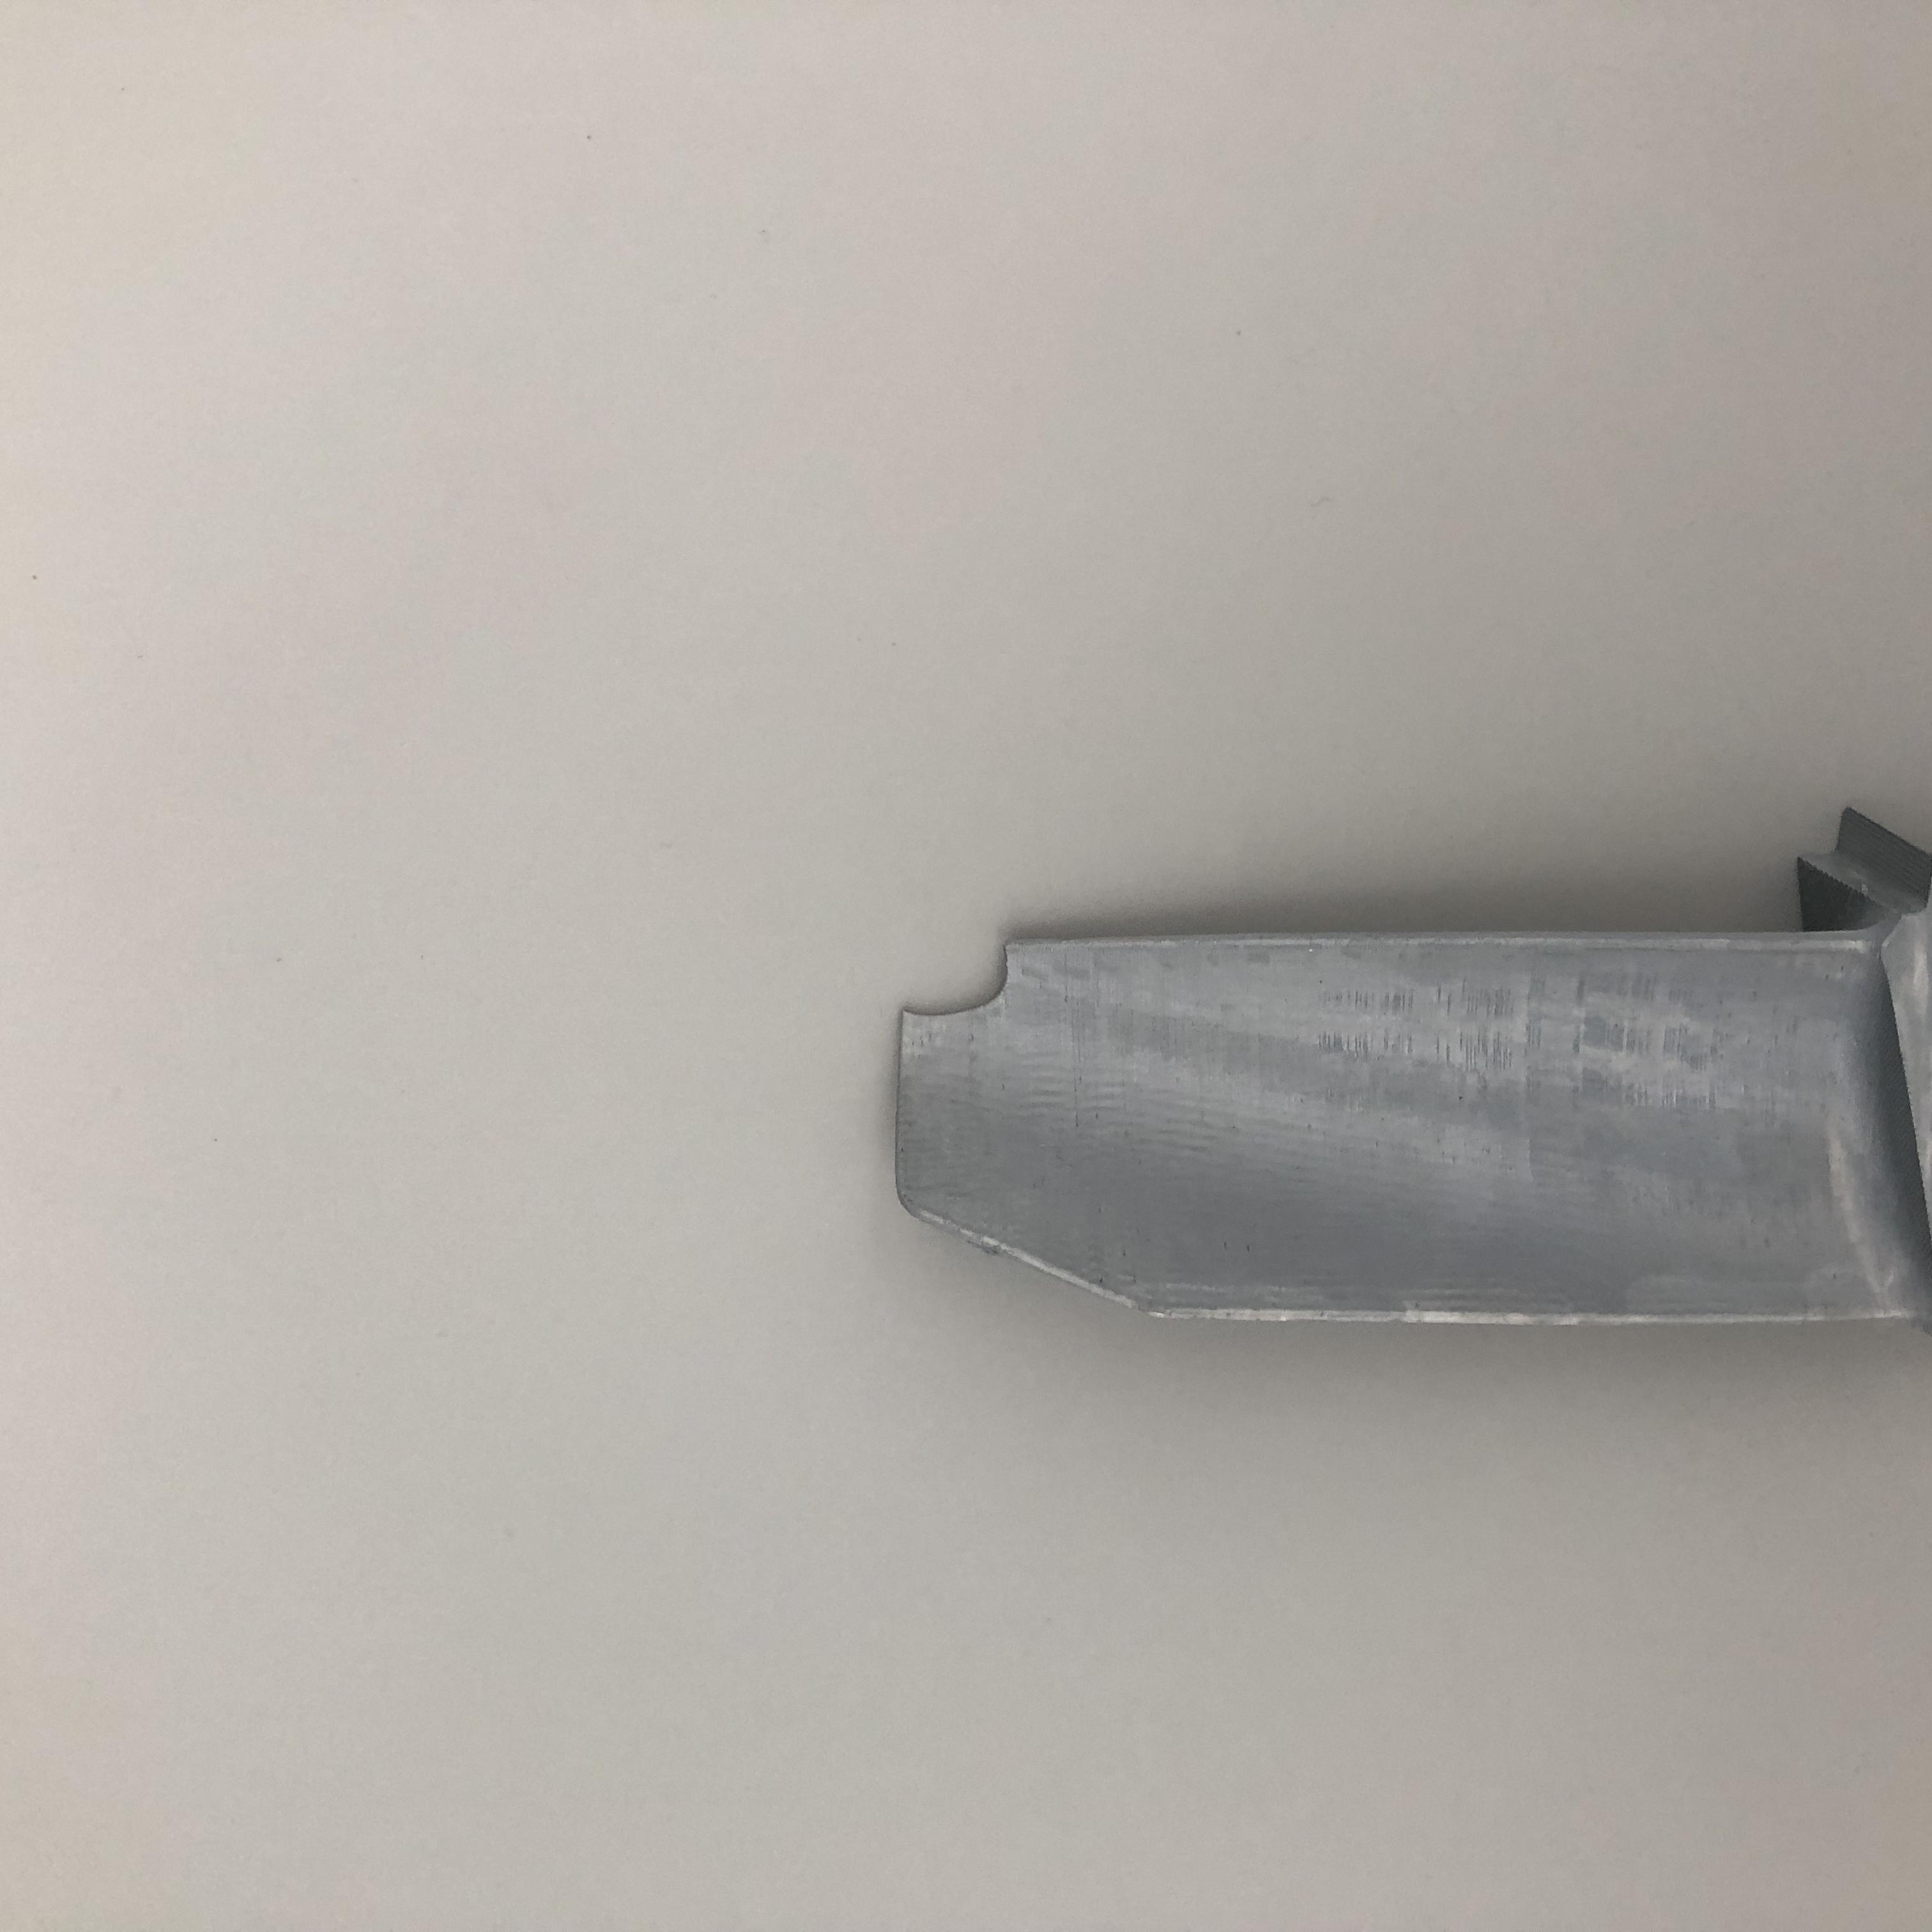fracture: (911, 941, 1053, 1046)
